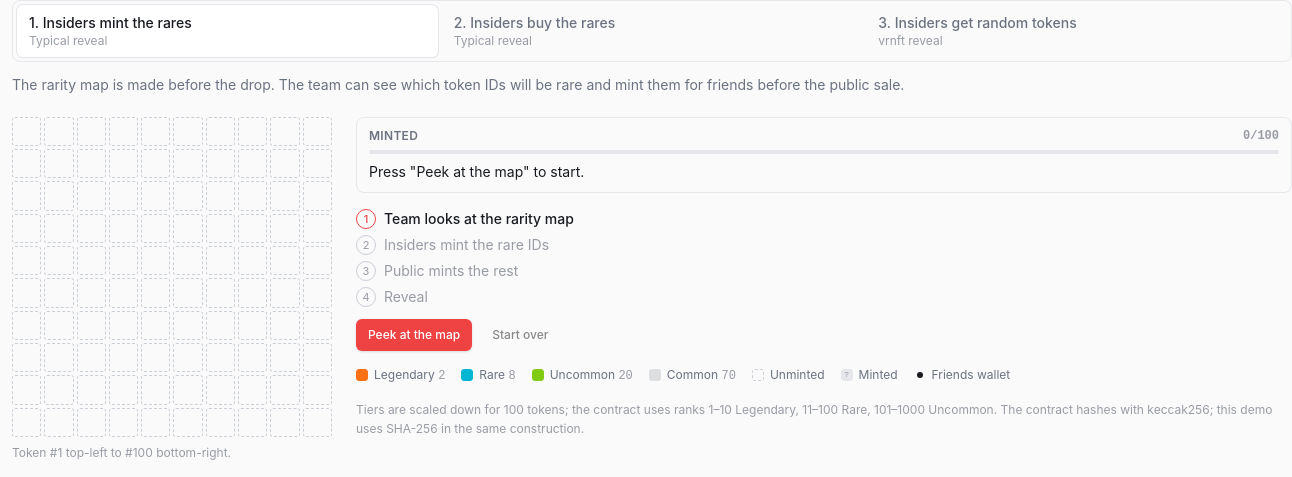
Test case: RevealSimulator › scenario 1: insiders mint the rares and hold all of them after reveal
Click the button "Peek at the map". click: (414, 335)
box: [356,319,472,351]
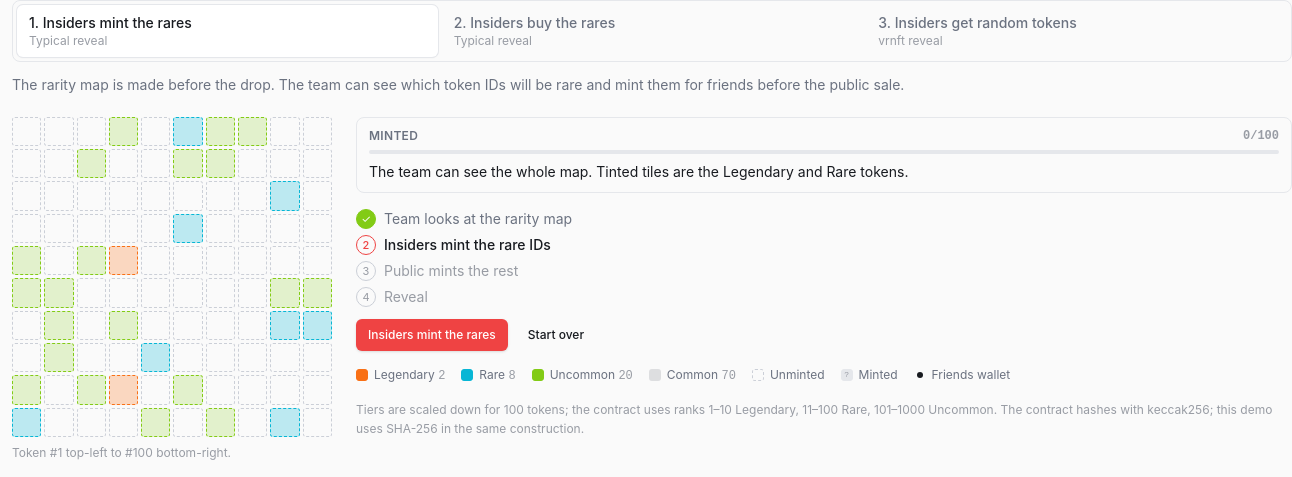
Click the button "Insiders mint the rares". click: (432, 335)
box: [356,319,508,351]
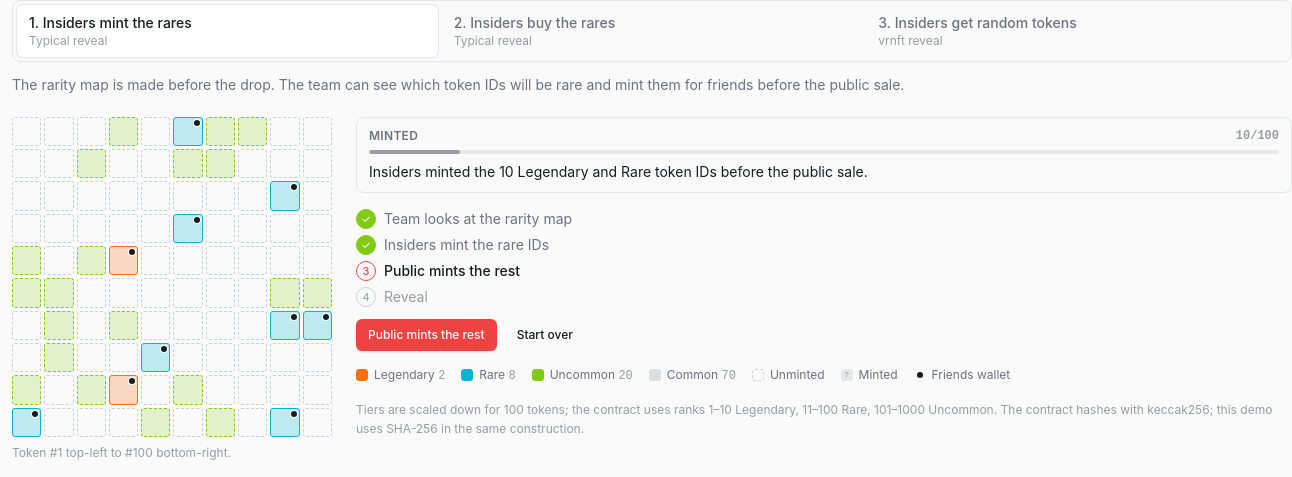
Expected: the text "Insiders minted the 10 Legendary and Rare" is shown, [369,163,868,180]
Click the button "Public mints the rest". click: (426, 335)
box: [356,319,497,351]
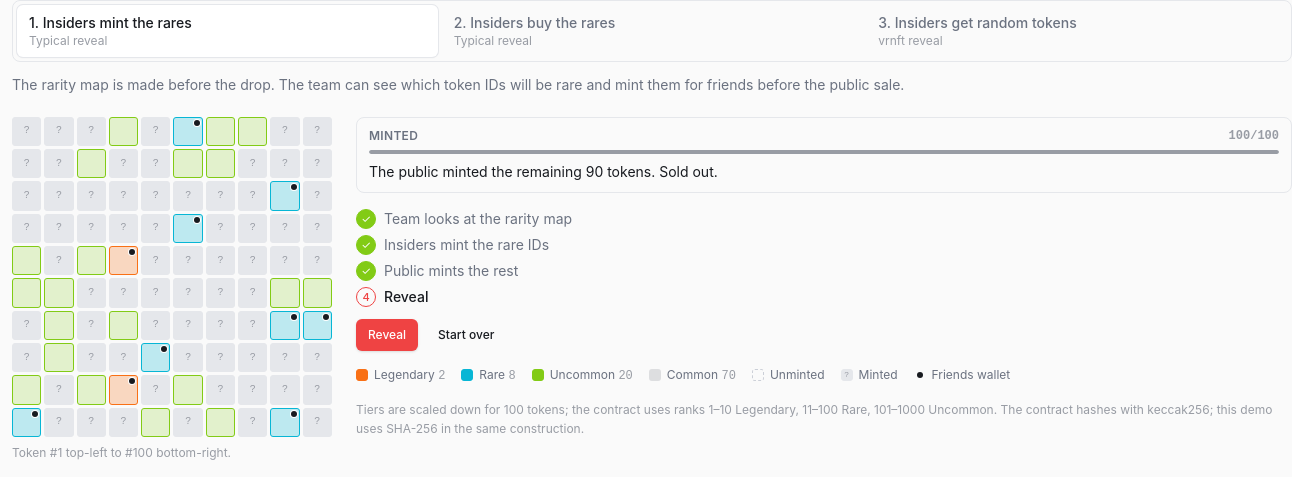
Click the button "Reveal". click: (387, 335)
box: [356,319,418,351]
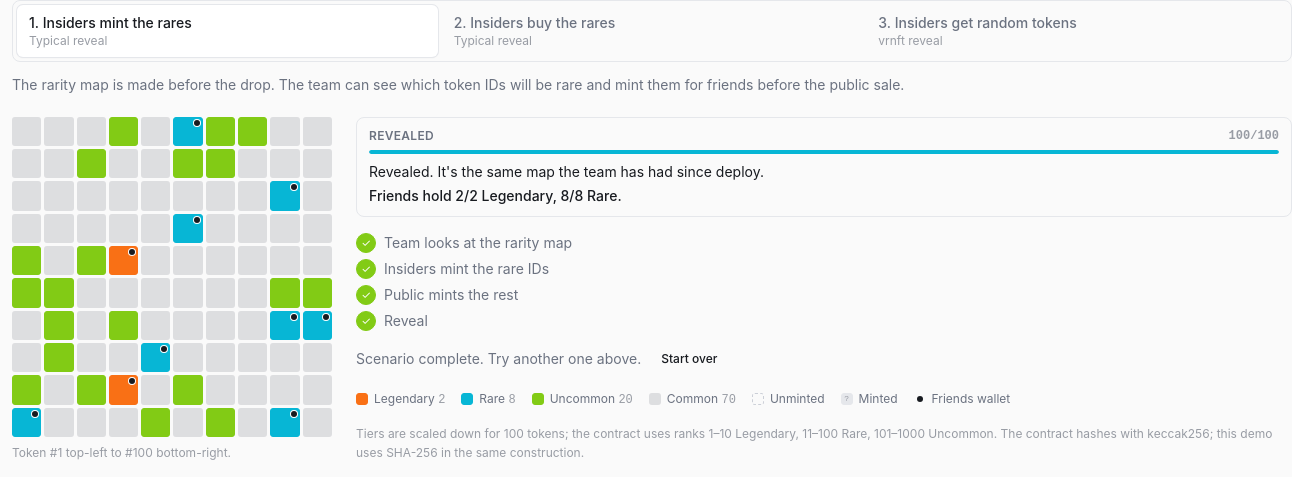
Expected: the text "Friends hold 2/2 Legendary, 8/8 Rare." is shown, [369,187,622,204]
Expected: the text "Scenario complete. Try another one above." is shown, [356,349,641,369]
